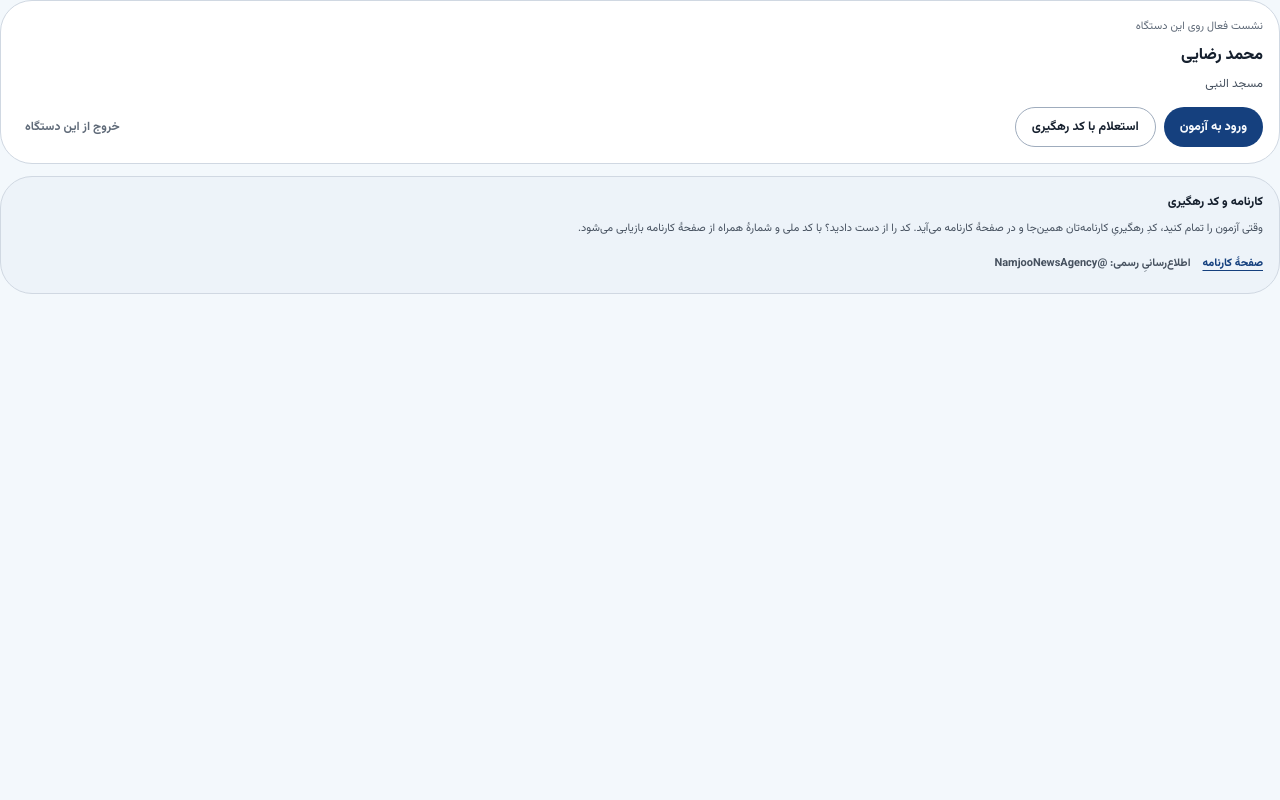
it: AccountView (/login) › خروج: نشست و کشِ هویت پاک می‌شوند
The width and height of the screenshot is (1280, 800).
Check: the text "محمد رضایی" is shown, box top-left (1181, 43), bottom-right (1263, 68)
Click the button "خروج از این دستگاه" at (72, 127), box top-left (17, 107), bottom-right (128, 147)
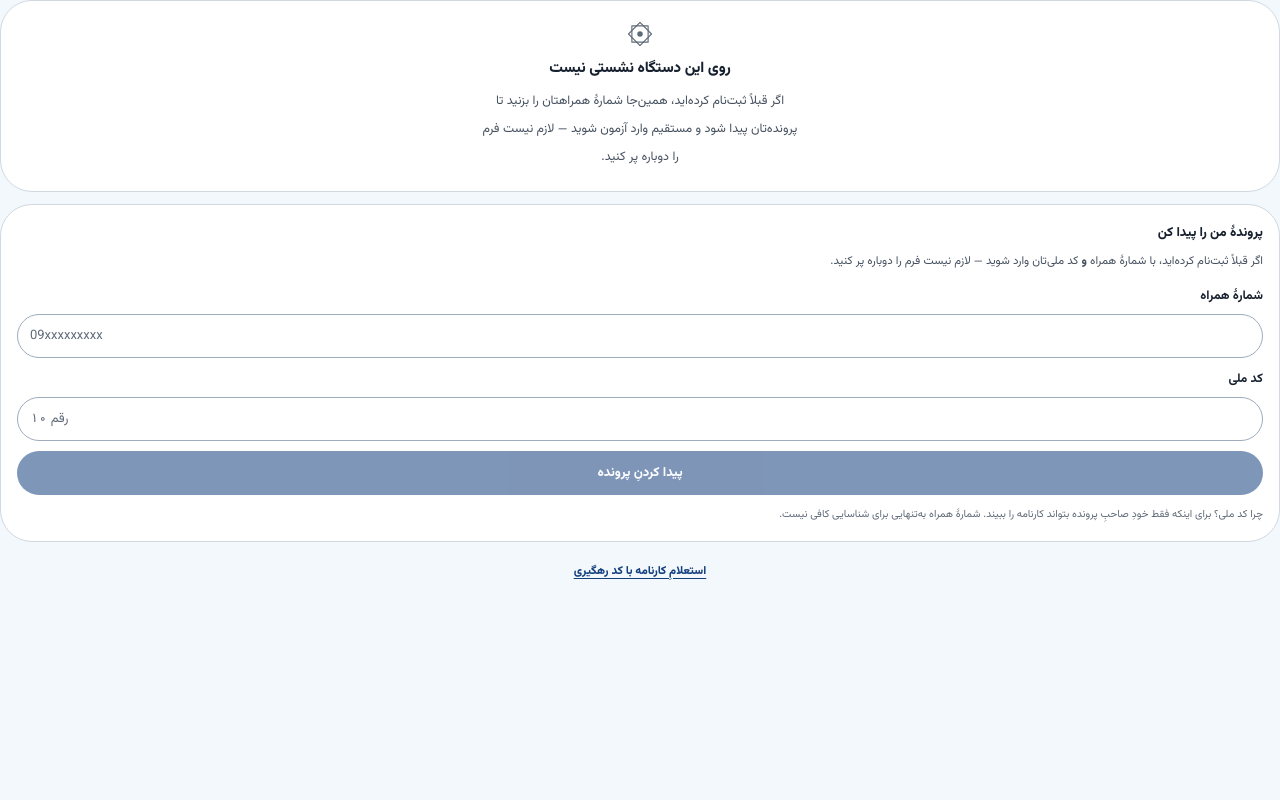
Check: the text "پروندهٔ من را پیدا کن" is shown, box top-left (1158, 222), bottom-right (1263, 242)
